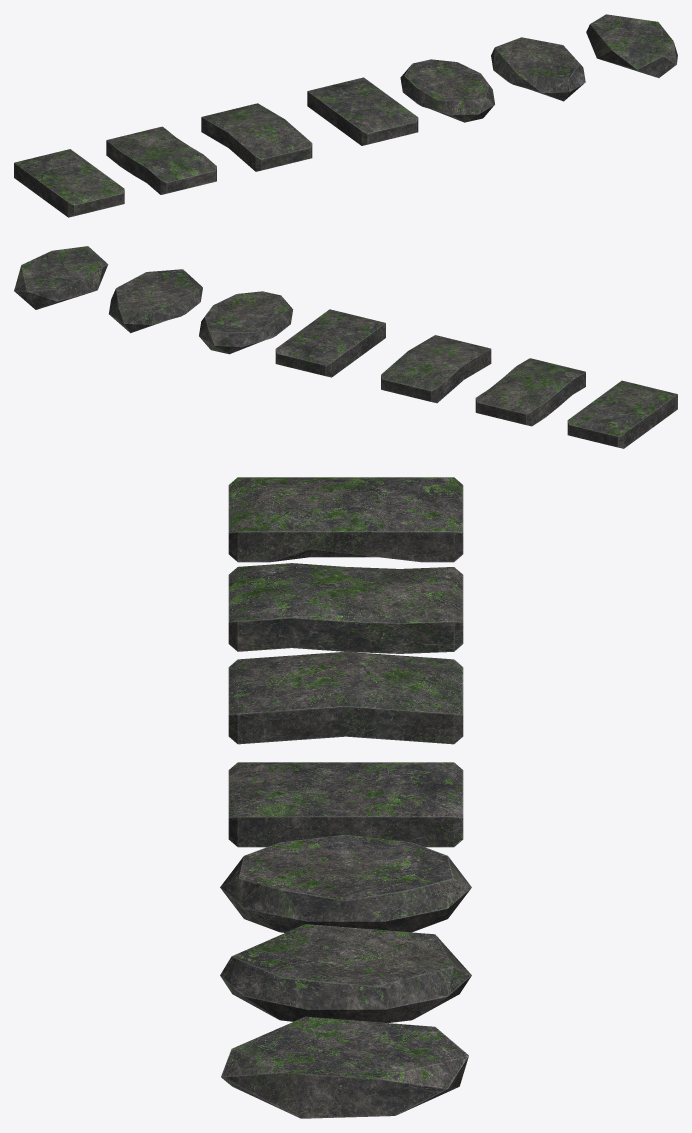
Rendered from walkway_stones.glb.
3 renders of one model, top to bottom at view 1: azimuth 30°, elevation 25°; view 2: azimuth 150°, elevation 25°; view 3: azimuth 270°, elevation 25°, orthographic. The views are drawn at different scales.
Parts seen in each view (by area): view 1: Cube.001, Cube, Cube.003, Cube.002, Icosphere, Icosphere.001, Icosphere.002; view 2: Cube.001, Cube.002, Cube, Cube.003, Icosphere, Icosphere.001, Icosphere.002; view 3: Cube.001, Cube.002, Cube.003, Icosphere.002, Icosphere, Cube, Icosphere.001.
Part boxes in pixels (x1,y1,x2,y2): Cube.001: (201,103,312,171); Cube: (307,77,418,145); Cube.003: (14,149,124,217); Cube.002: (106,126,216,194); Icosphere: (400,59,494,122); Icosphere.001: (491,37,585,101); Icosphere.002: (586,14,677,77); Cube.001: (381,335,491,403); Cube.002: (475,358,585,426); Cube: (275,309,385,377); Cube.003: (567,380,677,448); Icosphere: (199,291,293,354); Icosphere.001: (109,269,202,333); Icosphere.002: (14,246,108,309); Cube.001: (228,651,463,744); Cube.002: (228,563,463,653); Cube.003: (228,477,463,562); Icosphere.002: (221,1016,468,1118); Icosphere: (220,834,471,932); Cube: (228,762,463,847); Icosphere.001: (220,924,471,1022).
Bounding box in the file's own units: 9.27 × 0.3495 × 1.62.
1 material, 1 textured.
